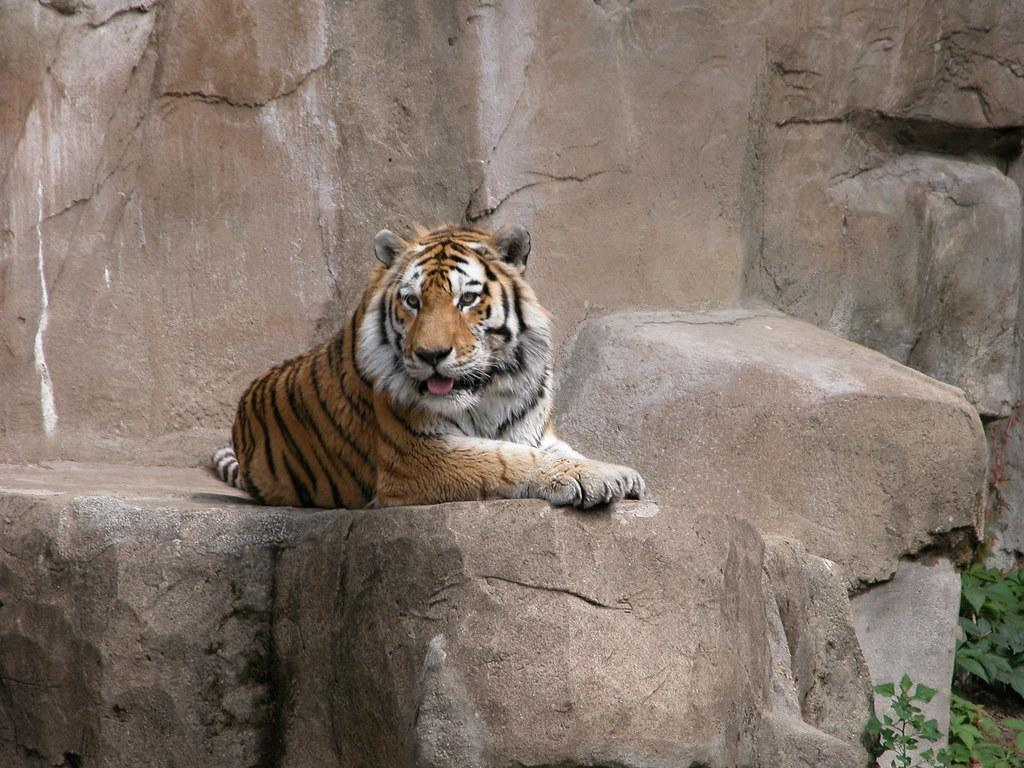tiger: (211, 219, 650, 511)
